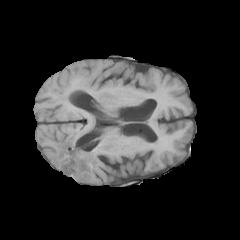glioma: (49, 96, 98, 180)
